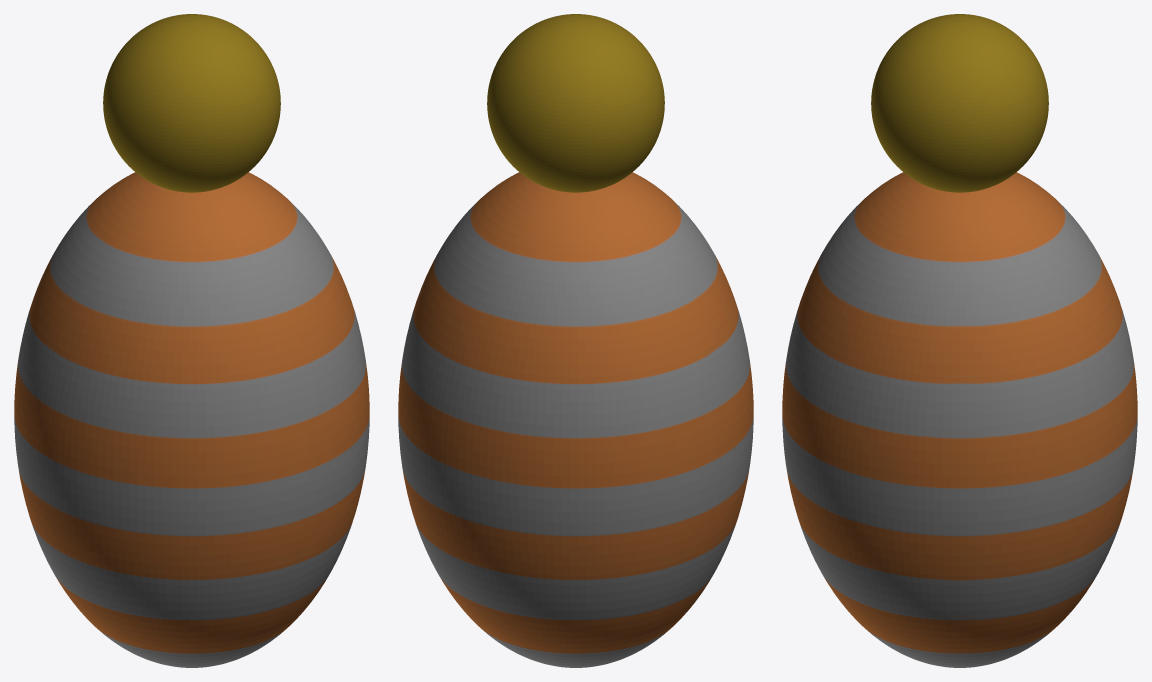
Rendered from BOD2_BMC3_BCC0_BPT2_FRC0_HEA0_HMC4_HCC0_HPT0_ELT0_ERT0_ELL0_ERL0_AP0_AAL0_AAR0_BEK0.fbx.
3 renders of one model, left to right at view 1: azimuth 30°, elevation 25°; view 2: azimuth 150°, elevation 25°; view 3: azimuth 270°, elevation 25°, orthographic.
Parts seen in each view (by area): view 1: Body, Head; view 2: Body, Head; view 3: Body, Head.
Part boxes in pixels (<box>): Body: <box>14,172,369,667</box>; Head: <box>103,14,280,192</box>; Body: <box>398,172,753,667</box>; Head: <box>487,14,664,192</box>; Body: <box>782,172,1137,667</box>; Head: <box>871,14,1048,192</box>.
Size of the model in its own units: 98.72 by 195 by 98.72.
2 materials, 2 textured.
